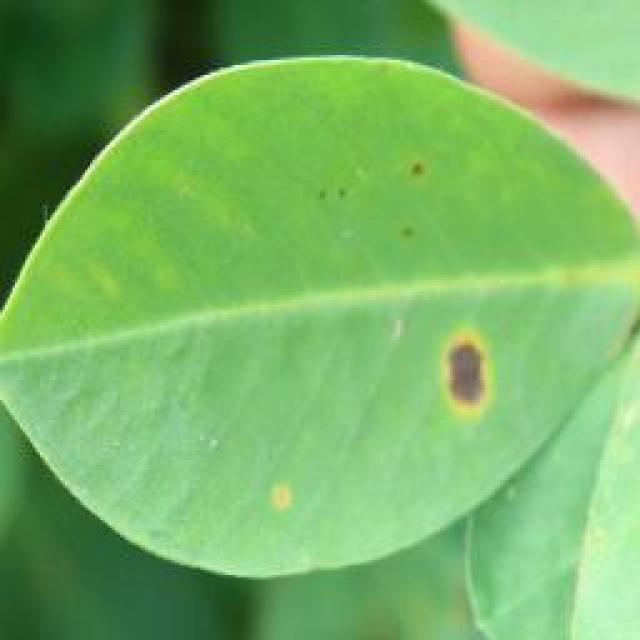Early_leaf_spot: (362, 142, 444, 276)
